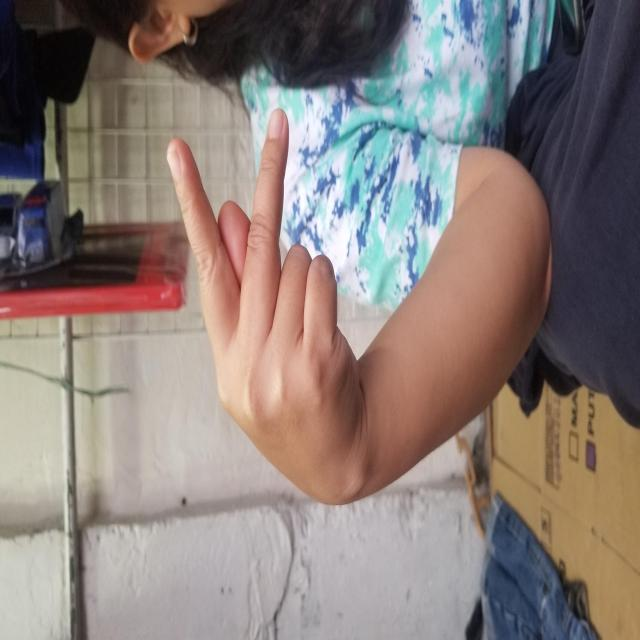K: (133, 165, 534, 368)
